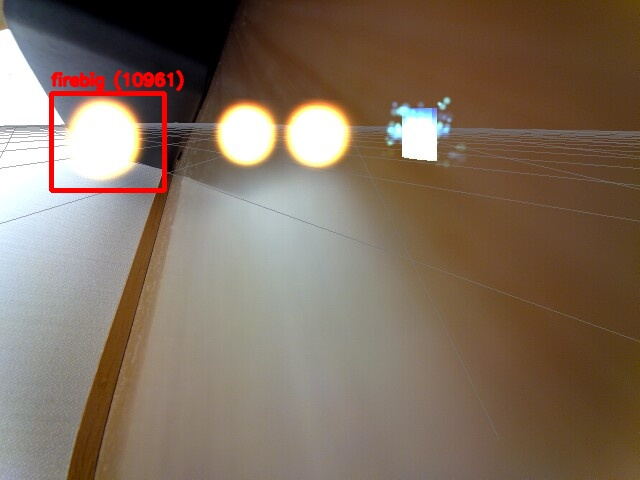firebig: (51, 93, 164, 190)
